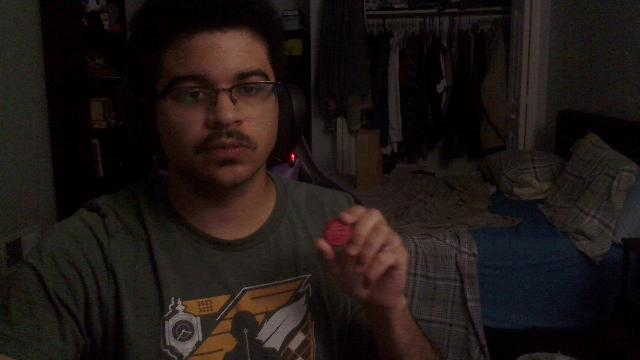cap: (324, 220, 352, 246)
